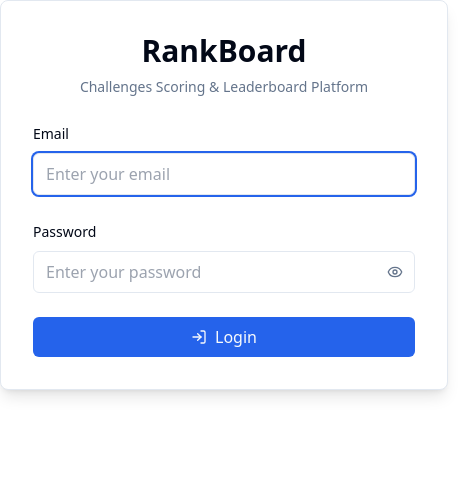
Test: LoginForm › displays error message on login failure
The width and height of the screenshot is (465, 486).
In the field labelled "Email": x=224, y=174 [33,153,415,195], type "wrong@example.com"
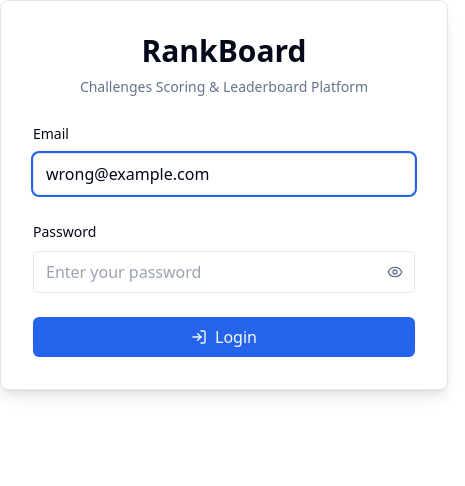
In the password field labelled "Password": x=224, y=272 [33,251,415,293], type "wrongpass"
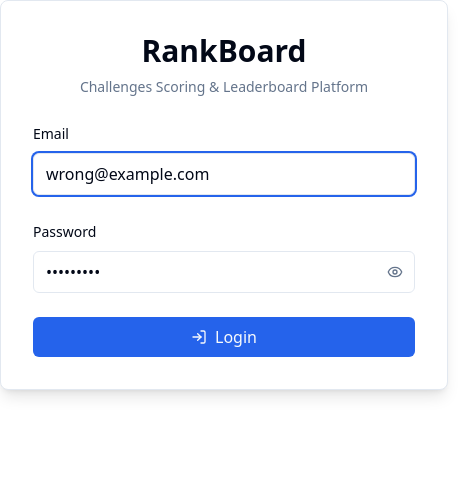
Click the button "Login": x=224, y=337 [33,317,415,357]
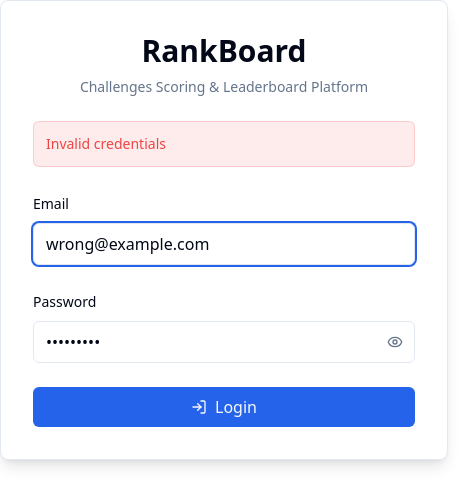
Check: the text "Invalid credentials" is shown, box [33,121,415,167]
